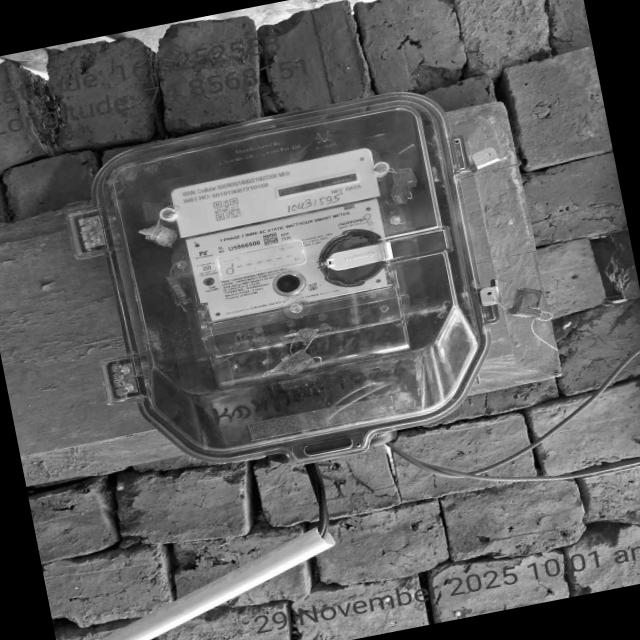meter: (162, 148, 404, 330)
